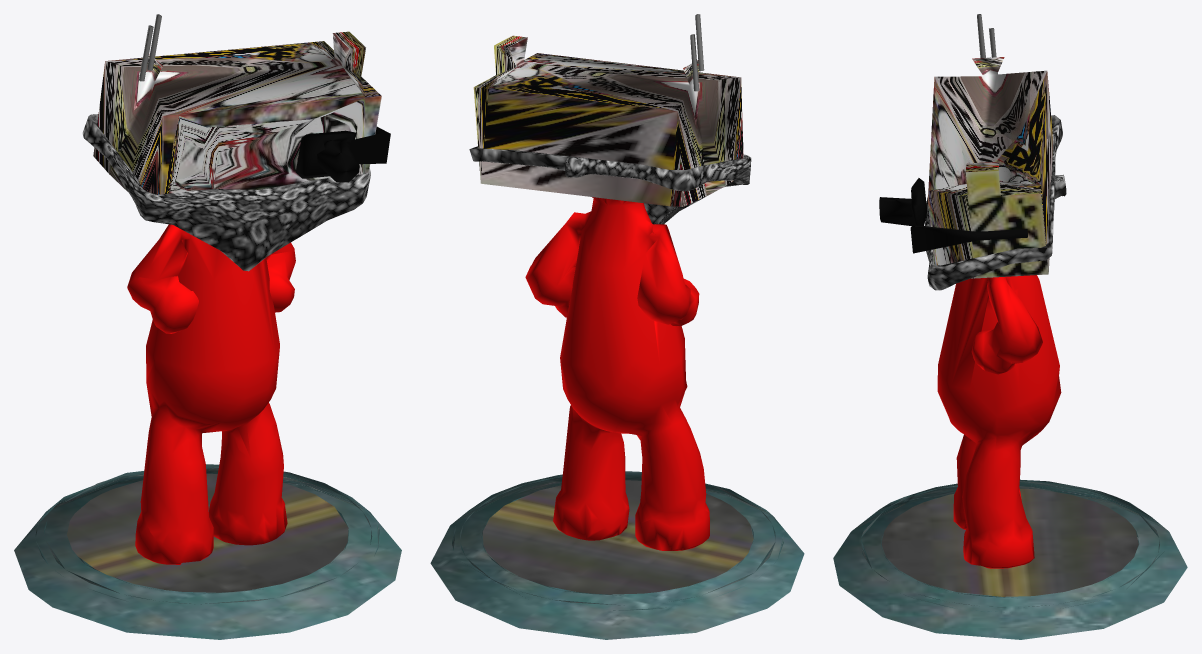
3 views of the same model, side by side, from view 1: azimuth 30°, elevation 25°; view 2: azimuth 150°, elevation 25°; view 3: azimuth 270°, elevation 25° (orthographic). The views are drawn at different scales.
Bounding box in the file's own units: 1.44 × 2.34 × 1.44.
7 materials, 4 textured.
